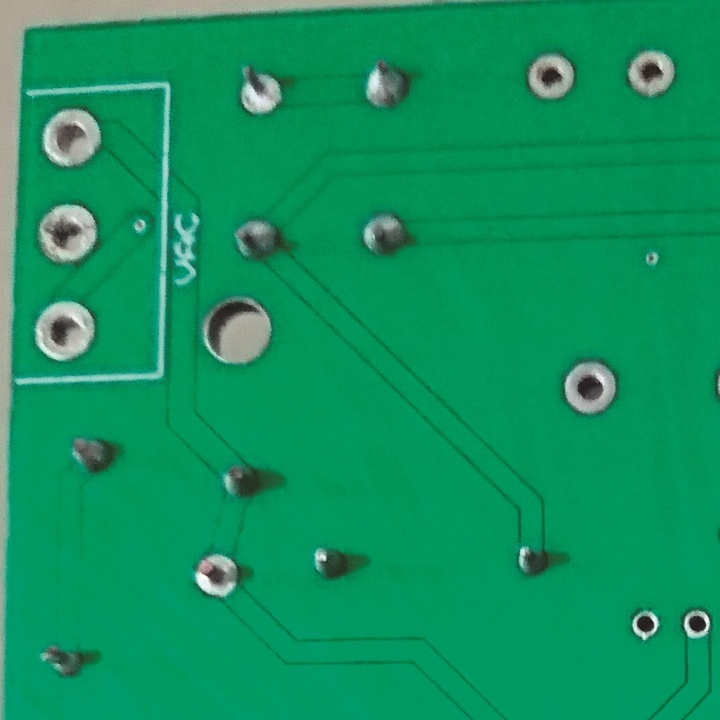F: (34, 103, 107, 177), (32, 300, 104, 366), (562, 352, 624, 420), (35, 203, 100, 266), (525, 47, 579, 104), (623, 46, 680, 100), (233, 63, 285, 119), (190, 551, 241, 600), (675, 604, 716, 643), (627, 607, 667, 640)
